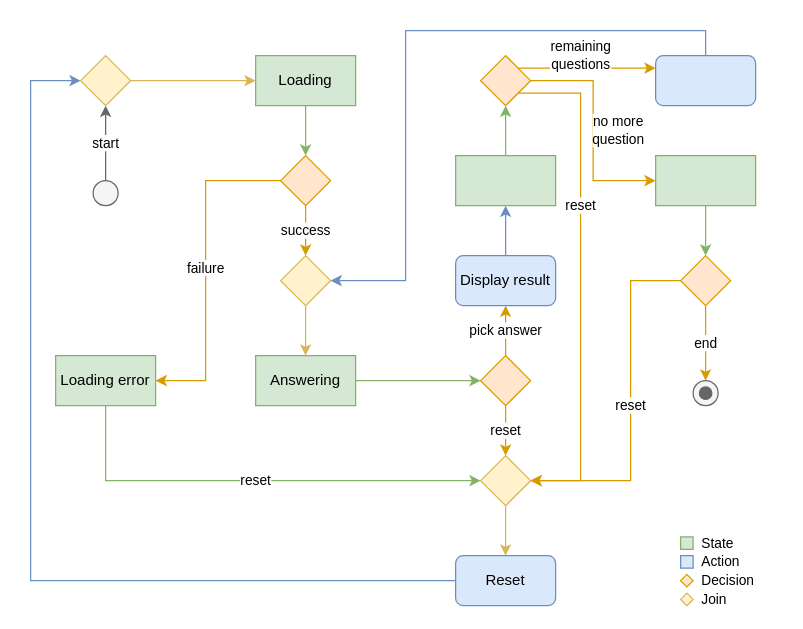
The diagram is 803 pixels wide and 629 high, and some of its shapes have lost their labels. Here are the shapes that lost their labels. From the top down, the centre of each, then its label:
At point 705,80: "Next".
At point 505,180: "Answered".
At point 705,180: "Finished".
